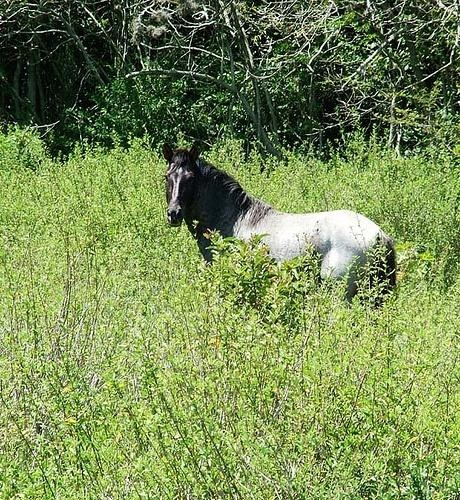horse: (160, 143, 400, 305)
